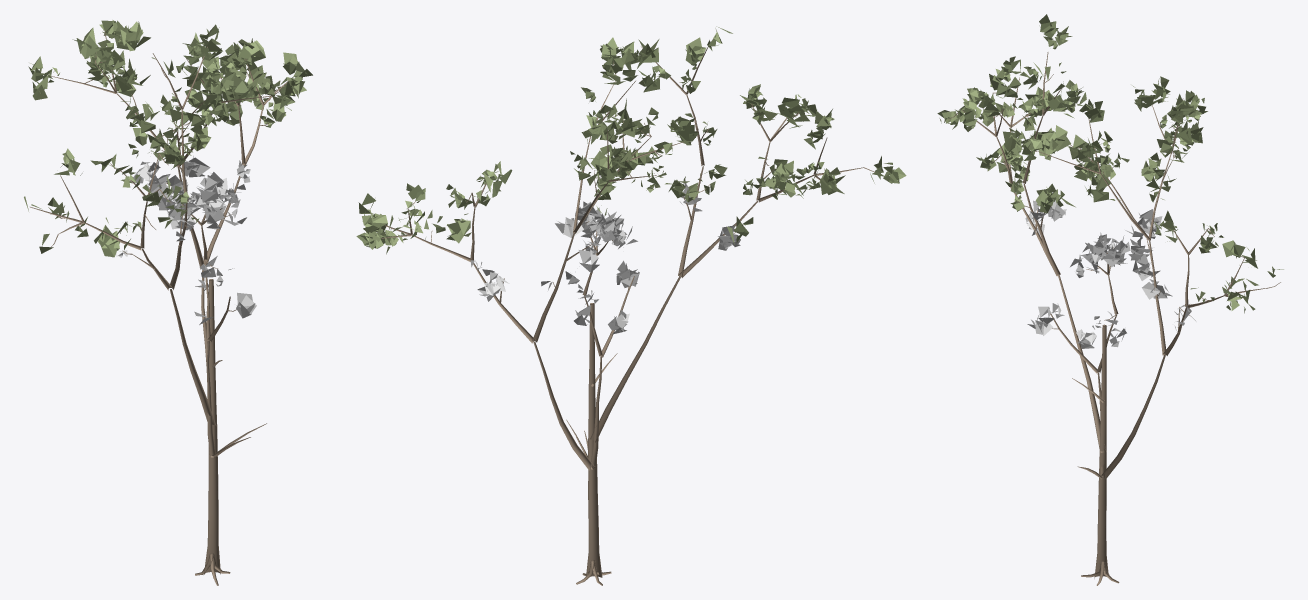
The model's file is tree-b-close.glb.
3 views of the same model, side by side, from view 1: azimuth 30°, elevation 25°; view 2: azimuth 150°, elevation 25°; view 3: azimuth 270°, elevation 25° (orthographic). The views are drawn at different scales.
Visible parts, largest first — view 1: leafB, wood, leafBDeep; view 2: leafB, wood, leafBDeep; view 3: leafB, wood, leafBDeep.
Part boxes in pixels (left/top/right/bottom): leafB: left=24, top=20, right=312, bottom=257; wood: left=30, top=30, right=289, bottom=585; leafBDeep: left=112, top=156, right=256, bottom=324; leafB: left=356, top=26, right=906, bottom=254; wood: left=381, top=46, right=874, bottom=585; leafBDeep: left=470, top=180, right=740, bottom=334; leafB: left=937, top=14, right=1283, bottom=313; wood: left=948, top=52, right=1280, bottom=585; leafBDeep: left=1025, top=200, right=1196, bottom=348.
Size of the model in its own units: 16.56 by 22.22 by 13.84.
